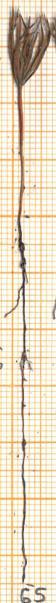flower: (0, 0, 56, 93)
root: (0, 220, 38, 584)
stem: (11, 92, 31, 222)
